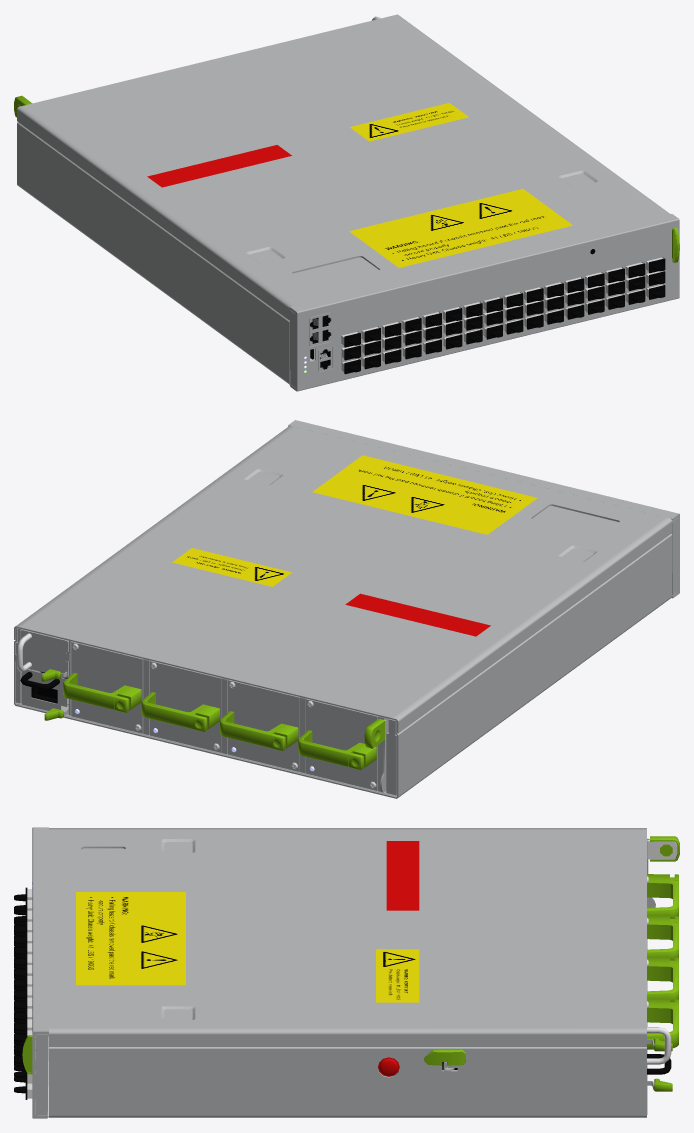
The model's file is module.glb.
3 renders of one model, top to bottom at view 1: azimuth 30°, elevation 25°; view 2: azimuth 150°, elevation 25°; view 3: azimuth 270°, elevation 25°, orthographic. The views are drawn at different scales.
Parts seen in each view (by area): view 1: OCP_WDG 400C Module_Merged; view 2: OCP_WDG 400C Module_Merged; view 3: OCP_WDG 400C Module_Merged.
Boxes of the visible parts, x1=… form: OCP_WDG 400C Module_Merged: x1=14, y1=14, x2=679, y2=391; OCP_WDG 400C Module_Merged: x1=14, y1=420, x2=679, y2=798; OCP_WDG 400C Module_Merged: x1=14, y1=827, x2=679, y2=1118.
Bounding box in the file's own units: 0.4456 × 0.0879 × 0.6071.
9 materials, 2 textured.
